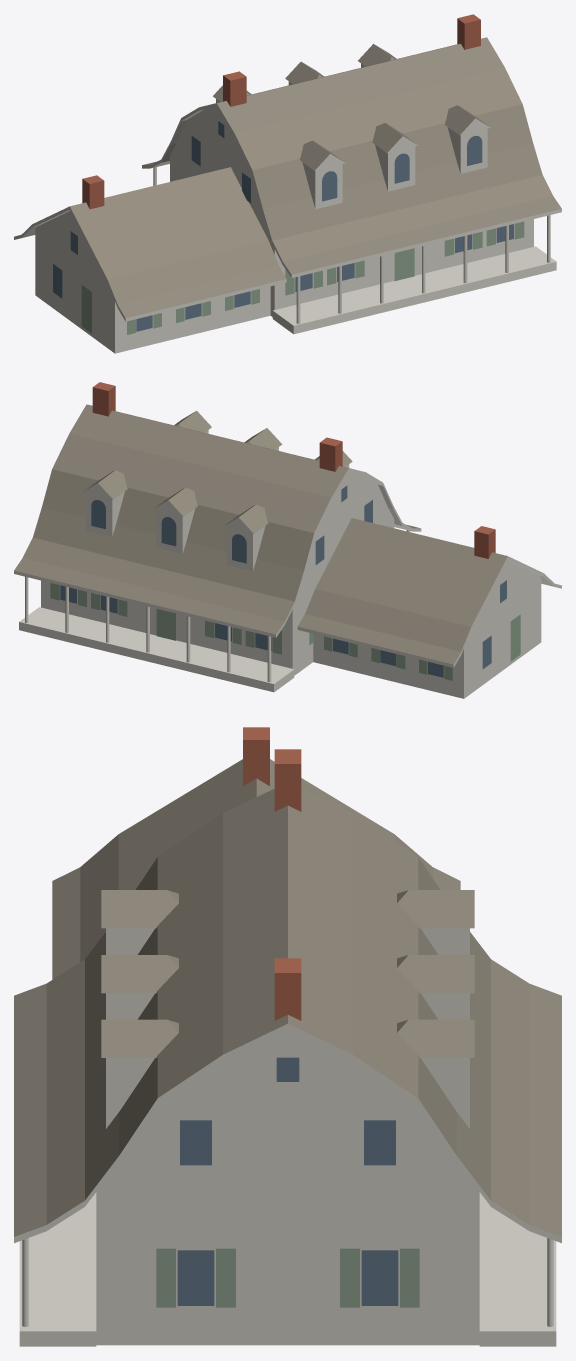
The model's file is nyc-lefferts-house.glb.
3 views of the same model, one above another, from view 1: azimuth 30°, elevation 25°; view 2: azimuth 150°, elevation 25°; view 3: azimuth 270°, elevation 25° (orthographic). The views are drawn at different scales.
Parts seen in each view (by area): view 1: Lefferts Historic House; view 2: Lefferts Historic House; view 3: Lefferts Historic House.
Boxes of the visible parts, <box> form: Lefferts Historic House: <box>14,14,561,353</box>; Lefferts Historic House: <box>14,382,561,698</box>; Lefferts Historic House: <box>14,727,561,1346</box>.
Bounding box in the file's own units: 23.49 × 10.6 × 14.3.
